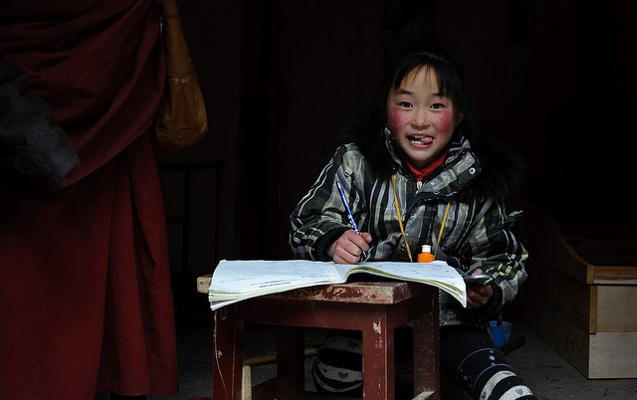person: (289, 48, 535, 399)
